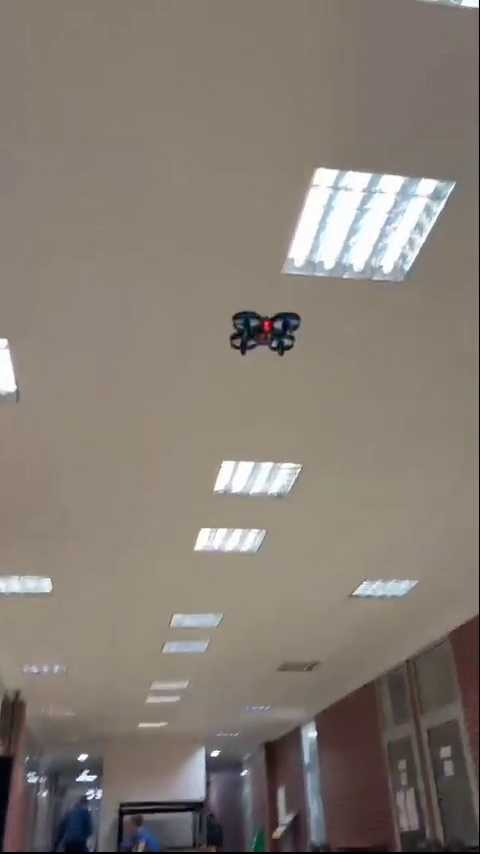drone: (231, 314, 305, 356)
